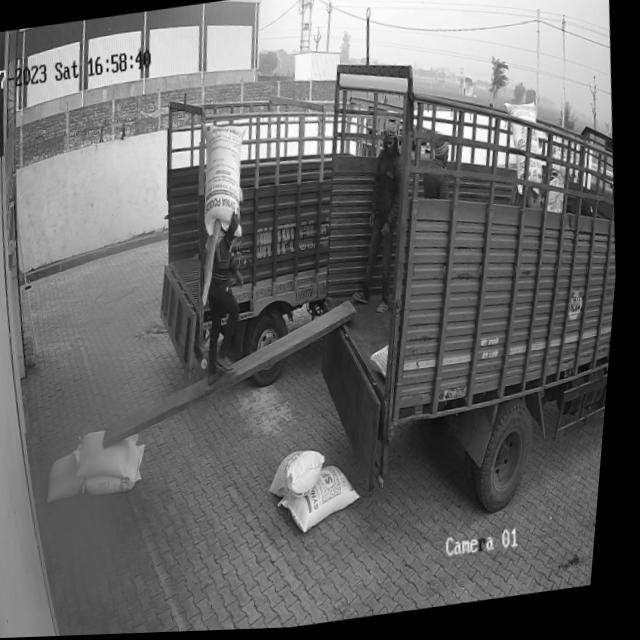sack: (280, 463, 373, 539), (197, 119, 254, 243), (78, 426, 150, 486), (88, 445, 157, 497), (273, 449, 336, 505), (49, 451, 94, 504)
